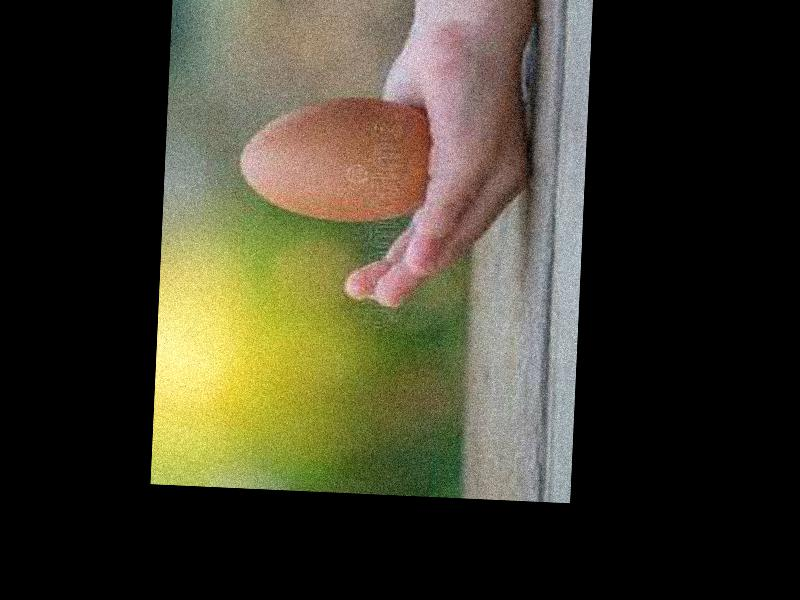Eggs: (238, 90, 433, 223)
